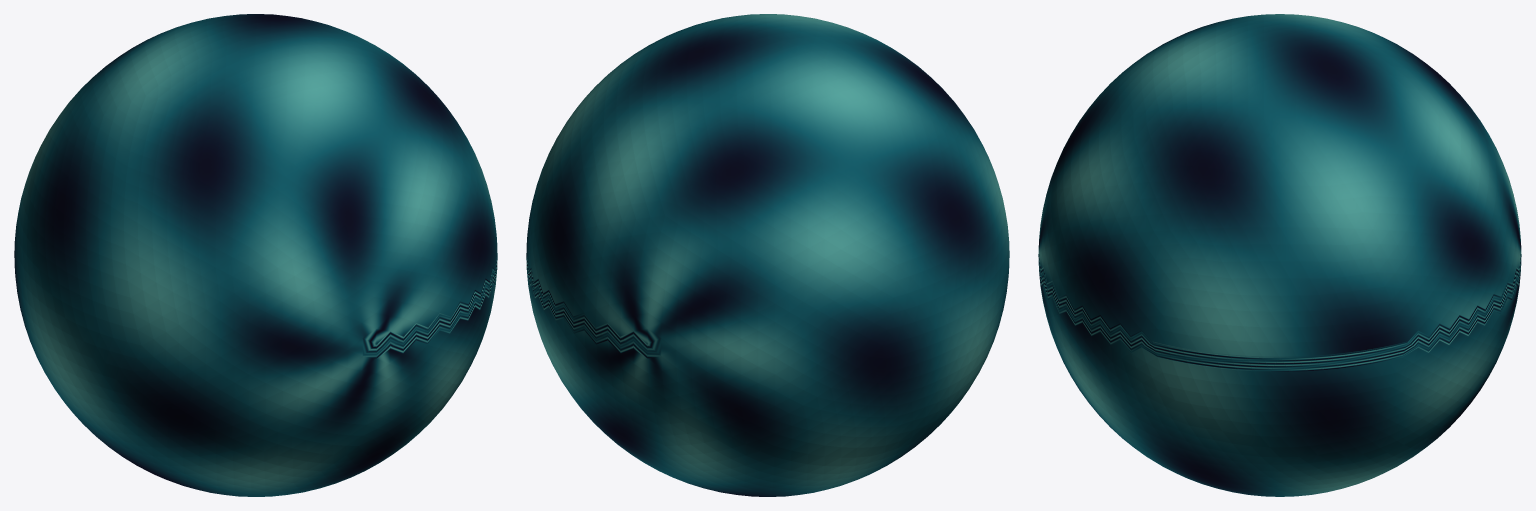
The model's file is sphere-ocean.glb.
The picture shows the model from 3 angles, left to right: view 1: azimuth 30°, elevation 25°; view 2: azimuth 150°, elevation 25°; view 3: azimuth 270°, elevation 25°; orthographic projection.
Parts seen in each view (by area): view 1: world; view 2: world; view 3: world.
Boxes of the visible parts, bbox=[...] form: world: bbox=[14, 14, 497, 496]; world: bbox=[526, 14, 1009, 496]; world: bbox=[1038, 14, 1521, 496].
Size of the model in its own units: 1.2 by 1.2 by 1.2.
1 material, 1 textured.
